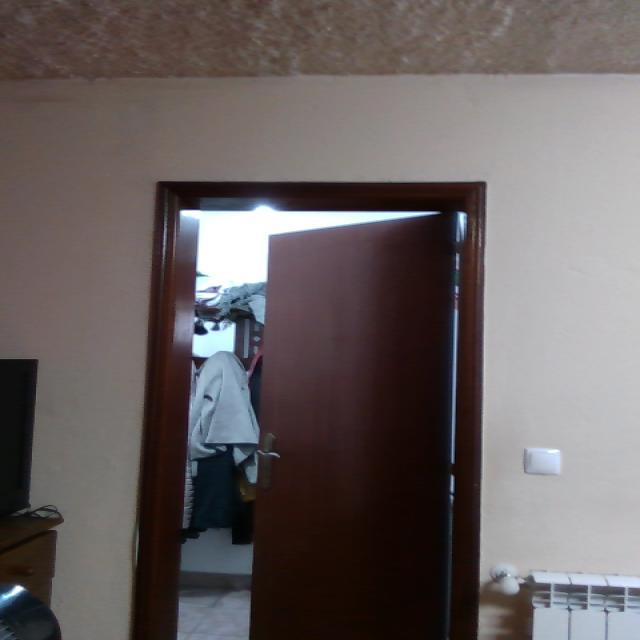door_local: (125, 184, 488, 640)
